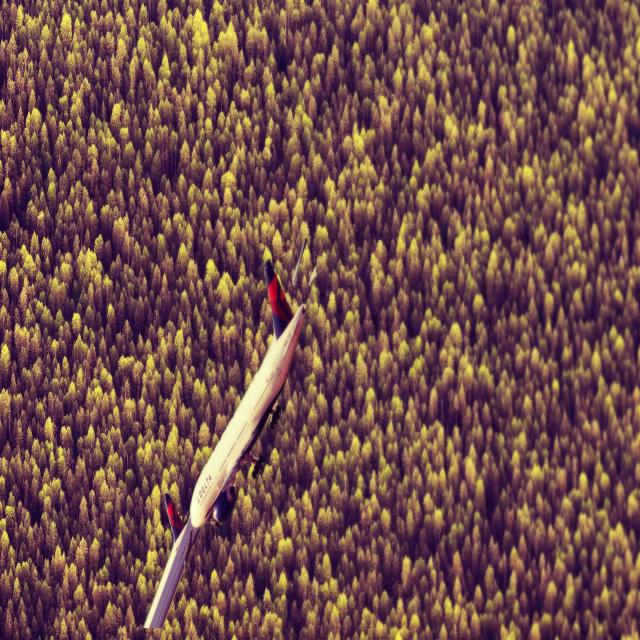airplane: (142, 237, 316, 632)
